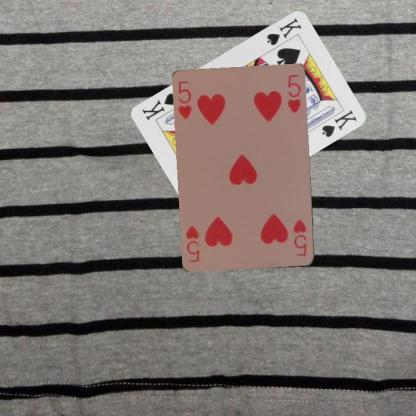5h: (290, 216, 309, 258), (176, 78, 193, 122)
Ks: (263, 15, 304, 46)
